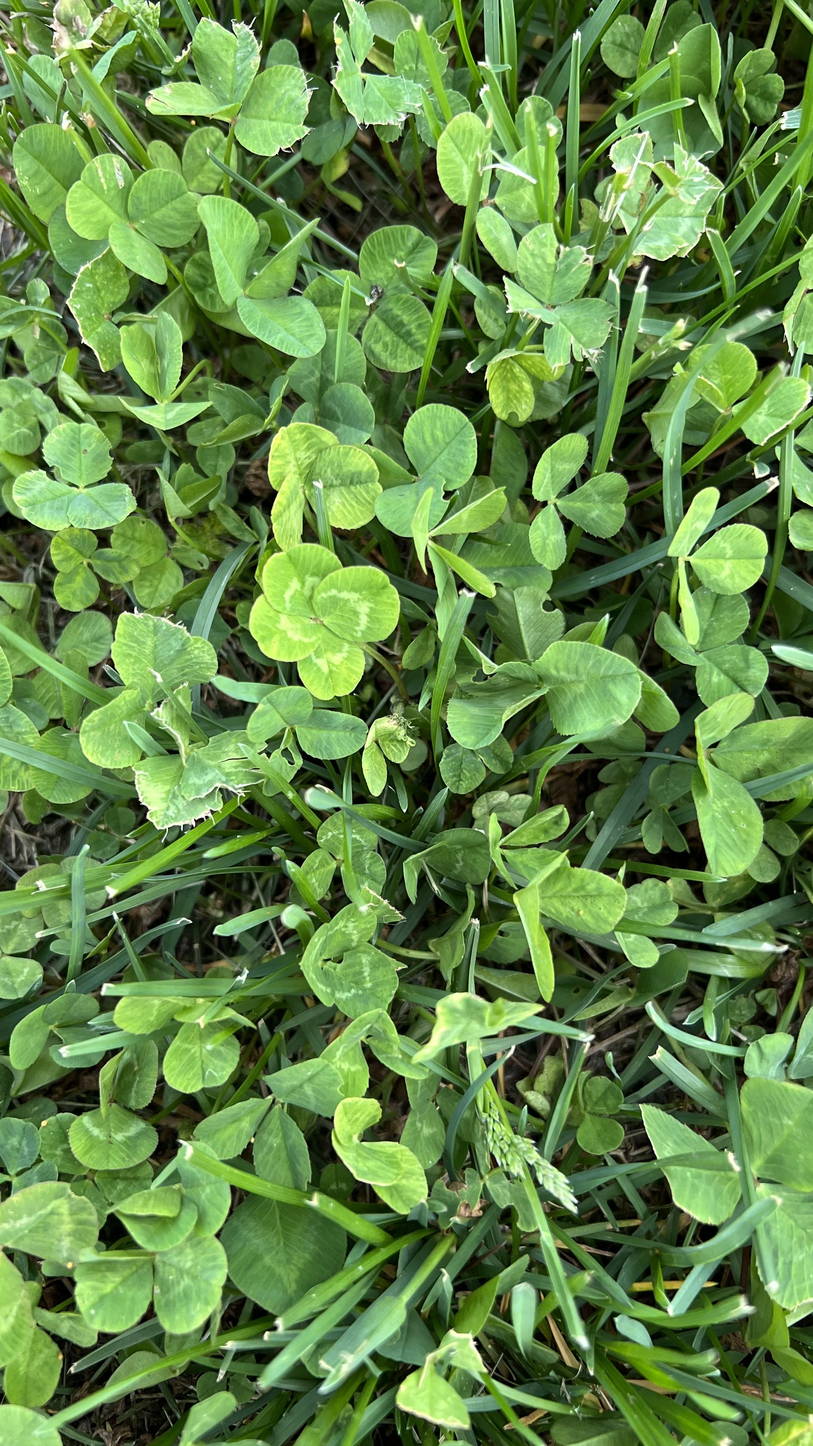4-Leaf-Clovers: (309, 733, 393, 1000)
